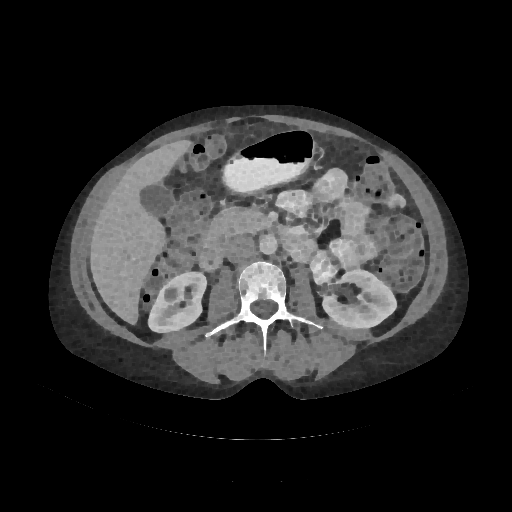Lesion: (162, 284, 185, 307)
